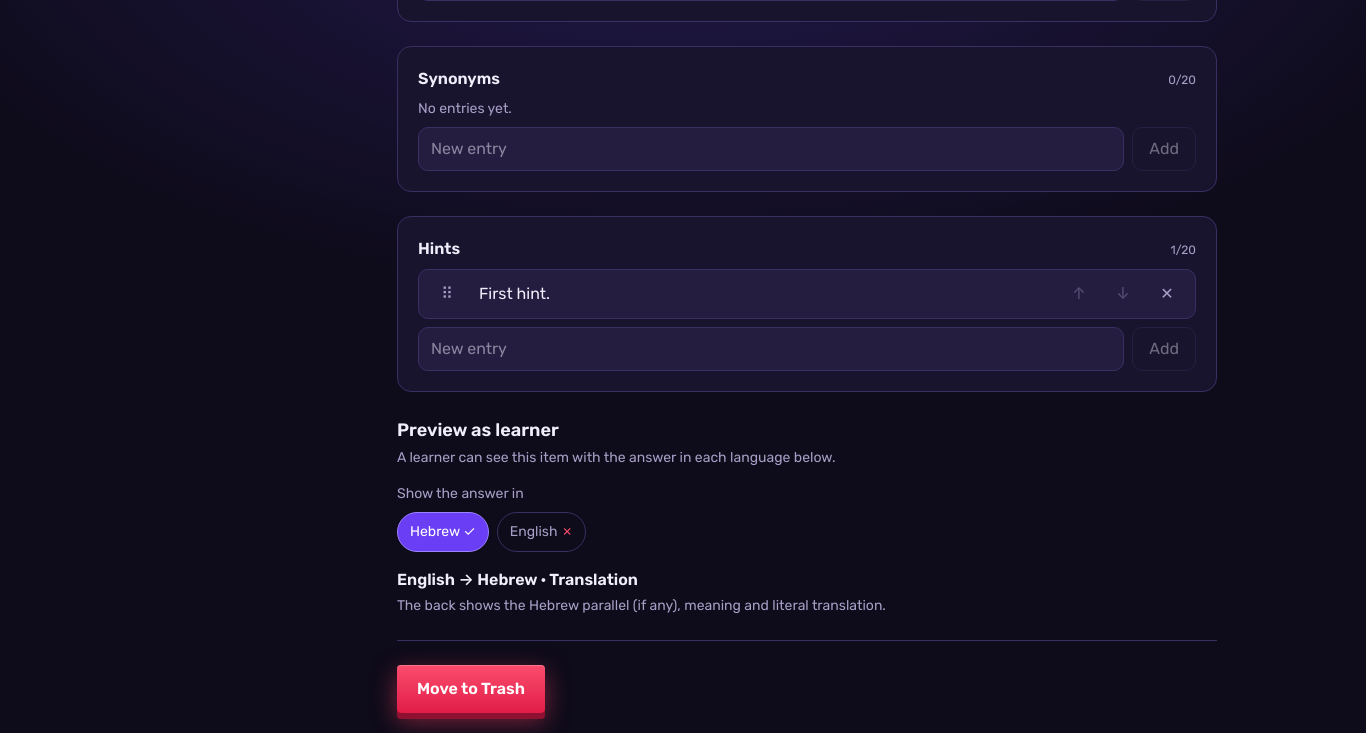
Scenario: AdminApp › a list change saves with the item version; a 409 reloads the item and says why
(page scrolled)
Type "Second hint." into the field named "Add to hints and press Enter". click: (771, 349)
box: [418,327,1124,371]
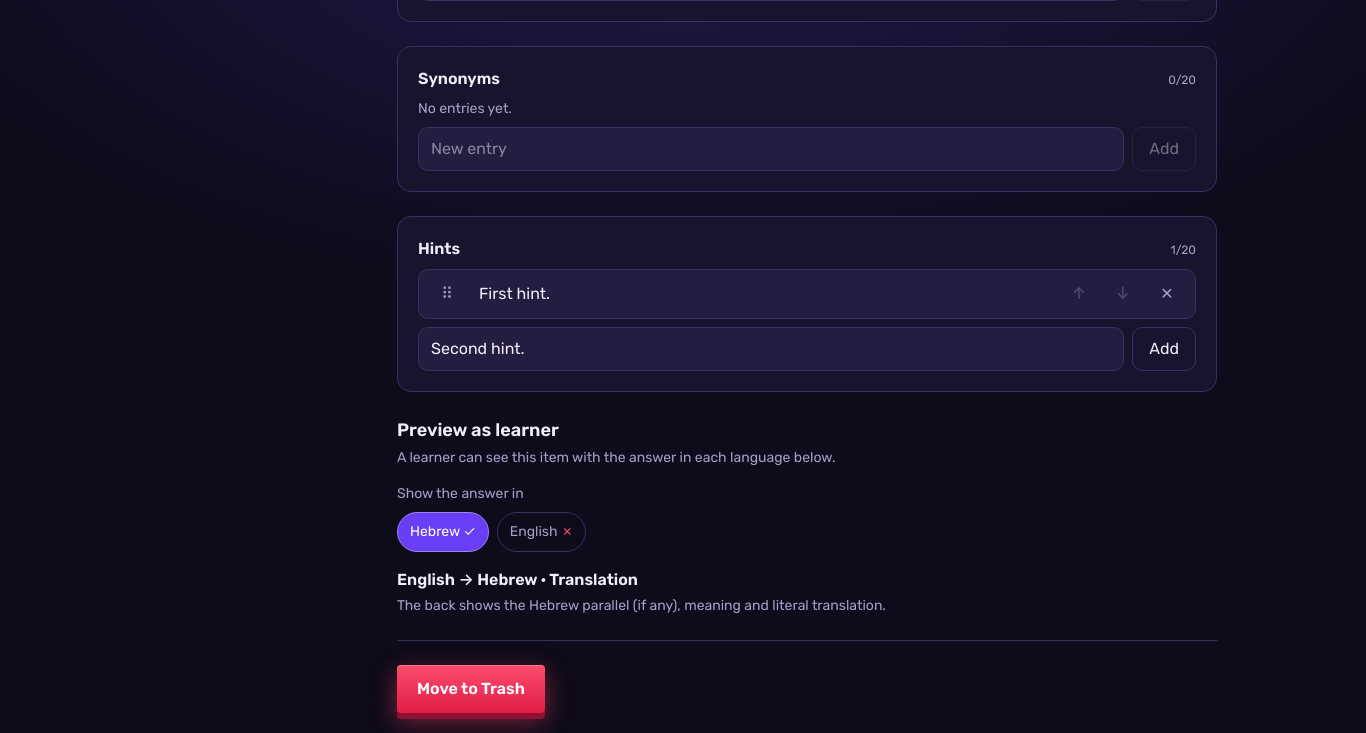
Press Enter in the field named "Add to hints and press Enter", box [418,327,1124,371]
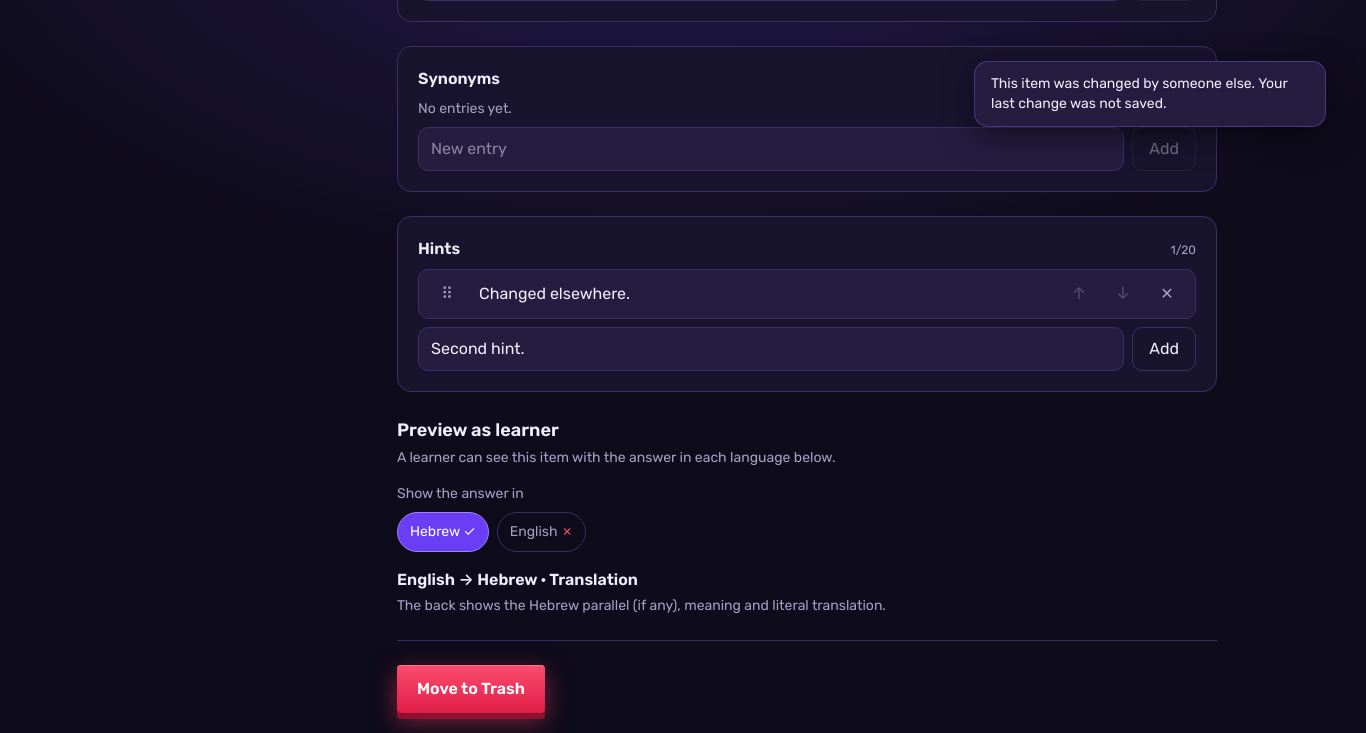
Result: the text "This item was changed by someone else. Your last change was not saved." is shown at [991,74,1309,114]
Result: the button "Changed elsewhere." is shown at [471,274,1055,314]
